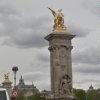Statue: (36, 3, 81, 47)
